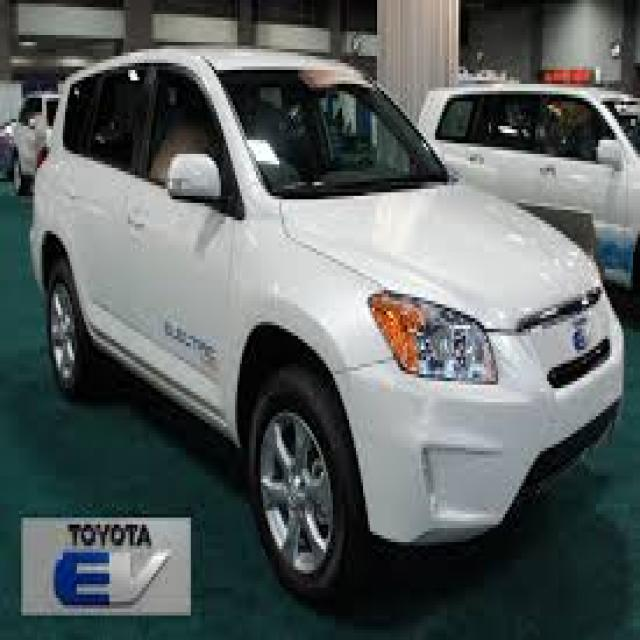light_vehicle: (29, 47, 625, 603)
